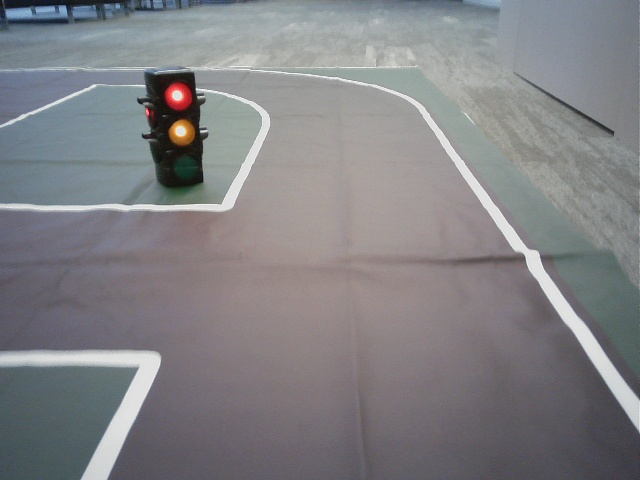red: (157, 76, 202, 185)
